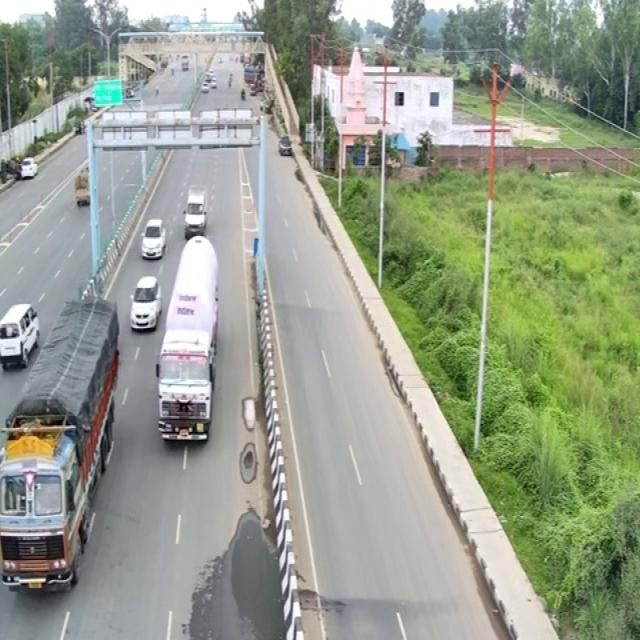car: (1, 301, 42, 368), (128, 275, 160, 333), (180, 184, 209, 236), (138, 216, 166, 260)
